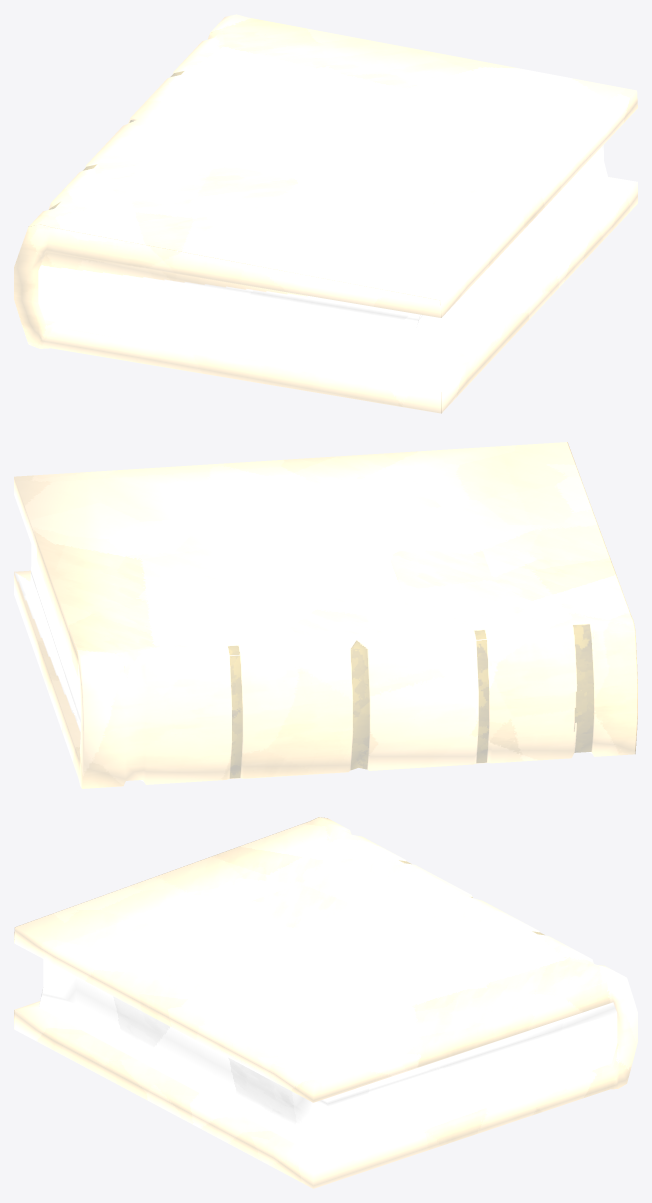
The model's file is yellowbook.fbx.
3 views of the same model, one above another, from view 1: azimuth 30°, elevation 25°; view 2: azimuth 150°, elevation 25°; view 3: azimuth 270°, elevation 25° (orthographic). The views are drawn at different scales.
Parts seen in each view (by area): view 1: YellowBook_BAKED; view 2: YellowBook_BAKED; view 3: YellowBook_BAKED.
Boxes of the visible parts, x1,y1,x2,y2 form: YellowBook_BAKED: (14,14,637,413); YellowBook_BAKED: (14,442,637,788); YellowBook_BAKED: (14,817,637,1188).
Bounding box in the file's own units: 28.84 × 5.63 × 28.34.
